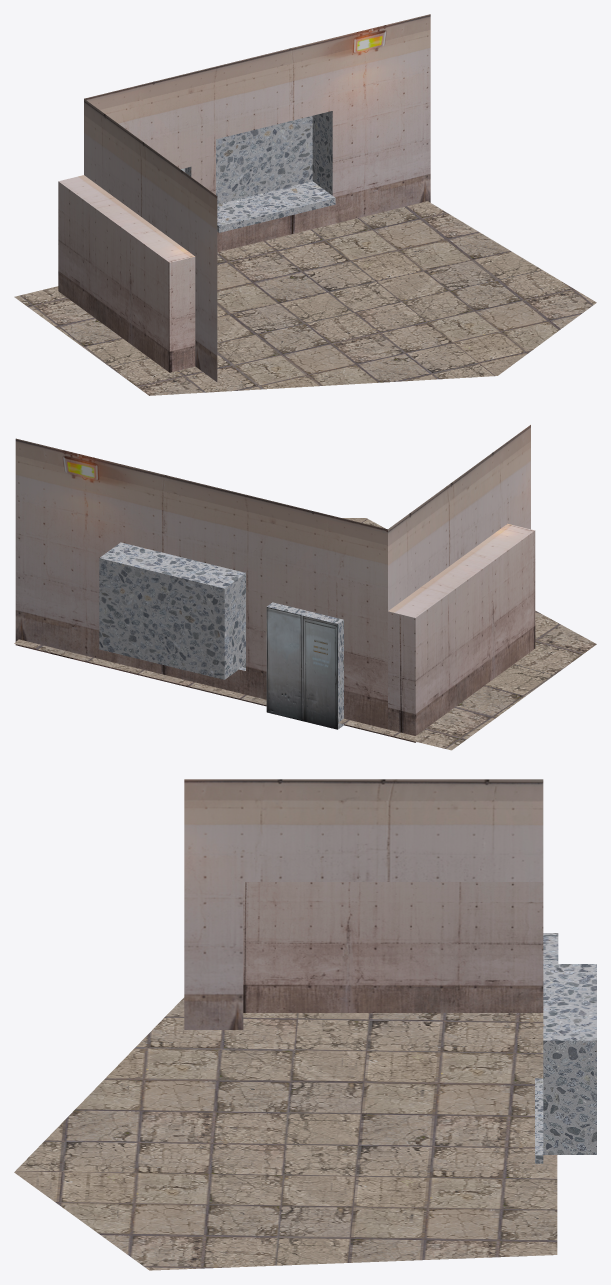
The model's file is factory2.fbx.
3 views of the same model, one above another, from view 1: azimuth 30°, elevation 25°; view 2: azimuth 150°, elevation 25°; view 3: azimuth 270°, elevation 25° (orthographic). The views are drawn at different scales.
Parts seen in each view (by area): view 1: floor3; view 2: floor3; view 3: floor3.
Part boxes in pixels (x1,y1,x2,y2): floor3: (14,14,596,395); floor3: (14,425,596,750); floor3: (14,779,596,1270).
Bounding box in the file's own units: 68.88 × 29.38 × 59.94.
1 material, 1 textured.
